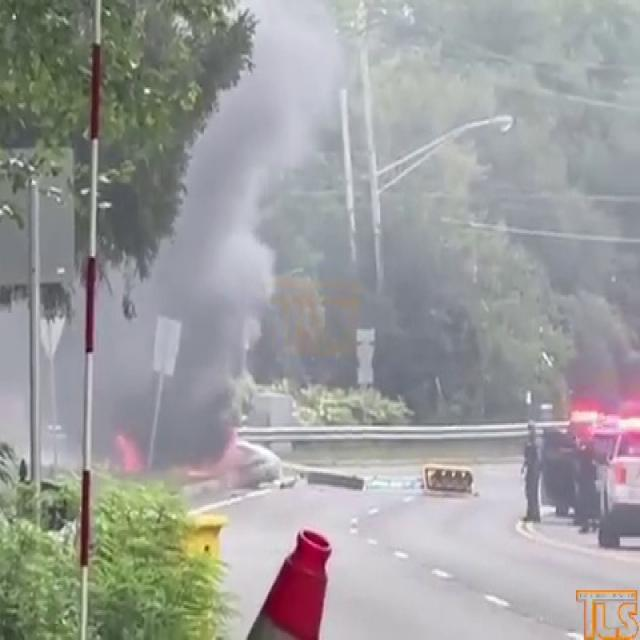Fire: (101, 427, 149, 480)
Smoke: (135, 71, 283, 444)
